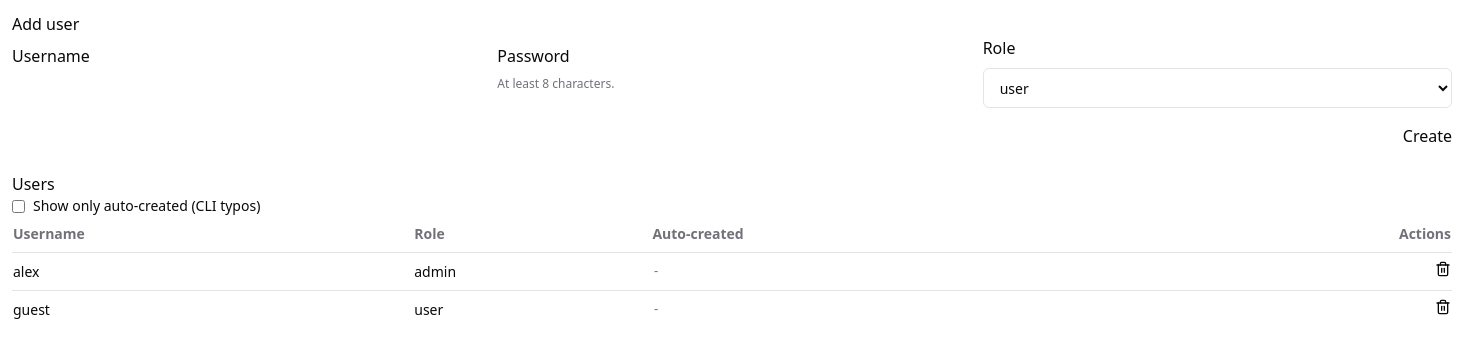
it: UserList › surfaces a backend detail message when delete fails
This screenshot has width=1464, height=360.
Click the button named "Delete alex" at (1443, 269), box [1435,261,1451,277]
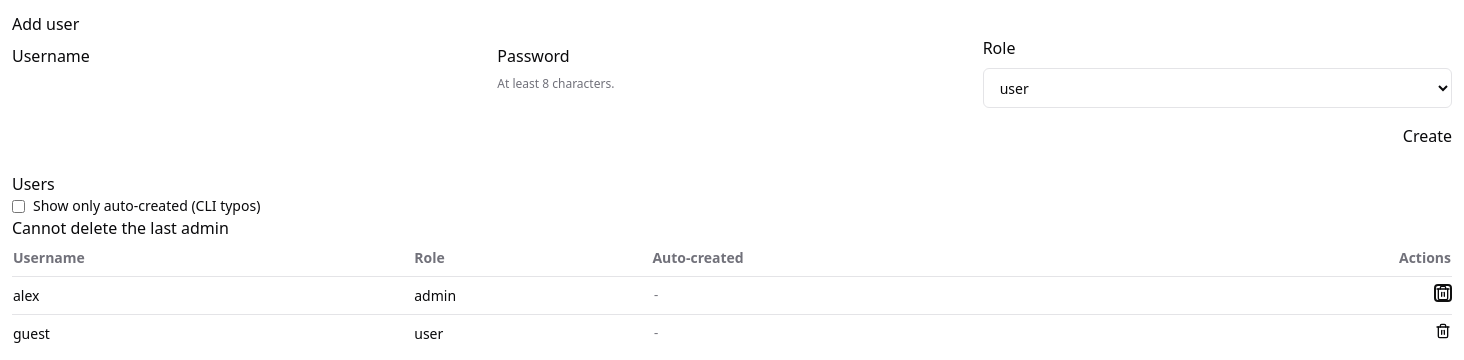
Result: the text "Cannot delete the last admin" is shown at [12,217,229,239]
